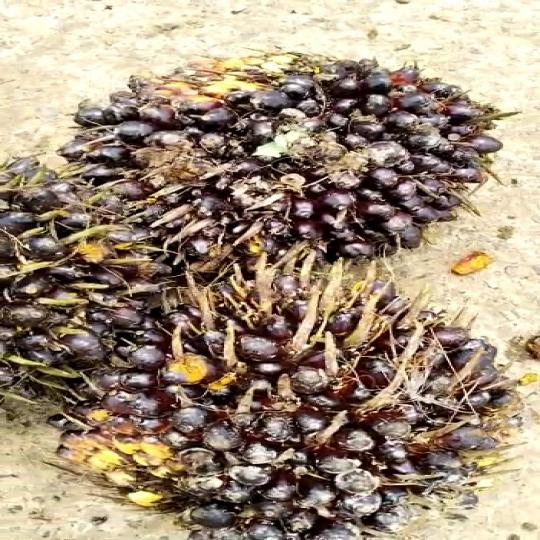mentah: (64, 267, 529, 539), (31, 46, 508, 279), (0, 146, 156, 421)
